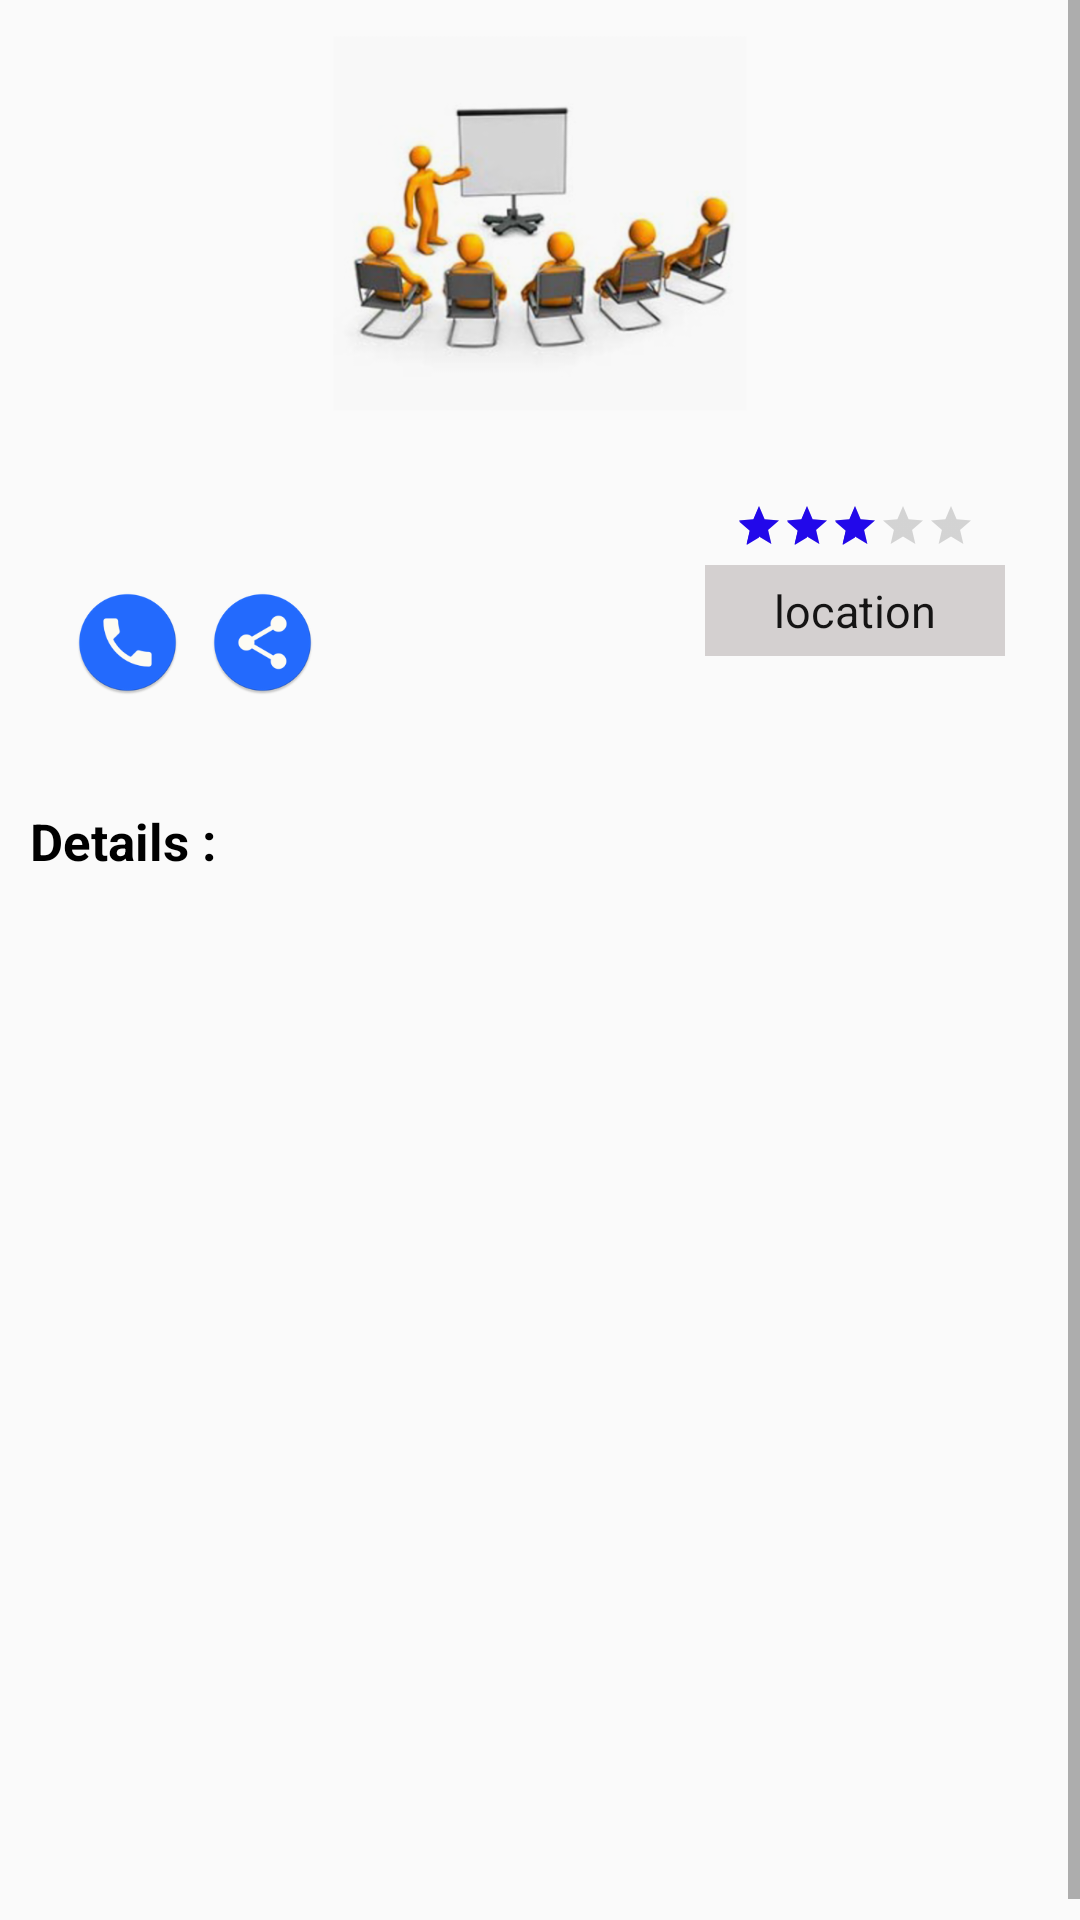

Named icons in this screenshot (1080x1920) and their bounding boxes, BBox(x1, y1, x2, y2):
phone: BBox(79, 594, 176, 693)
share: BBox(214, 594, 311, 693)
